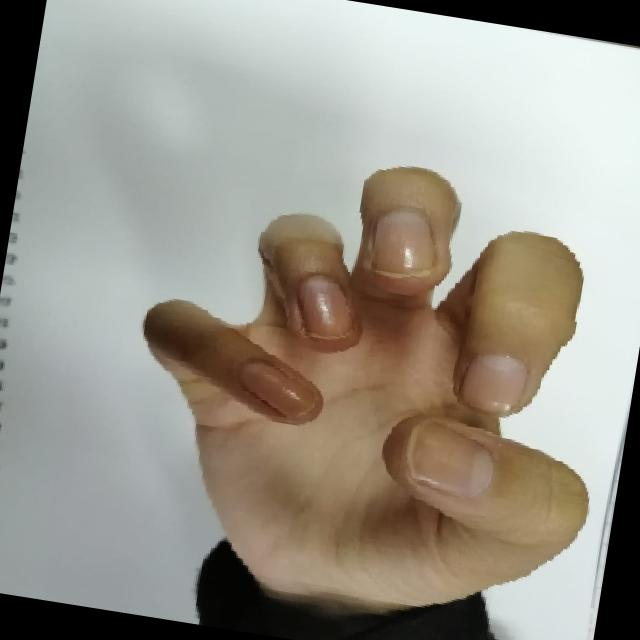Nail: (405, 419, 495, 497), (370, 209, 436, 277), (460, 354, 528, 416), (241, 362, 315, 418), (297, 277, 354, 341)
